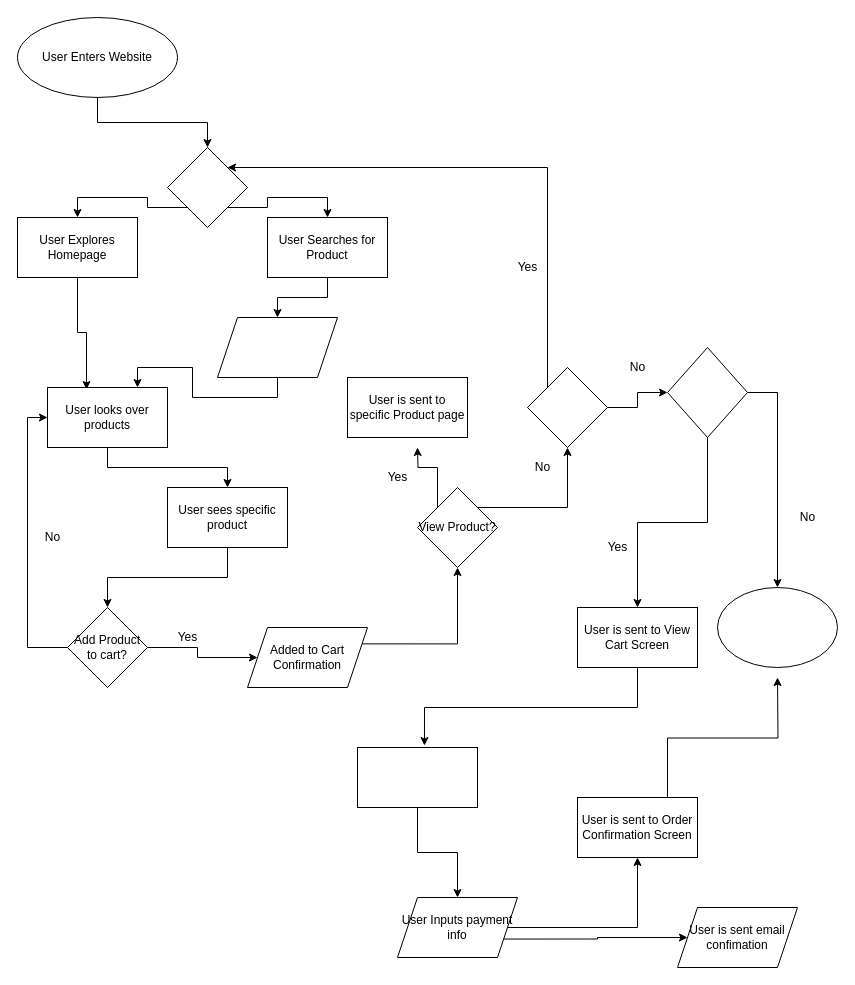
Some shapes in this 855 by 985 pixel diagram are drawn without their labels. The shapes that lost their labels are listed below. From the top down, each one's centre as x and y in pixels, then its label:
the point at 207,187: Product Browsing
the point at 277,347: User provides input for search
the point at 567,407: Continue Shopping?
the point at 707,392: Checkout?
the point at 777,627: User Leaves Website
the point at 417,777: User is sent to View Payment Screen
